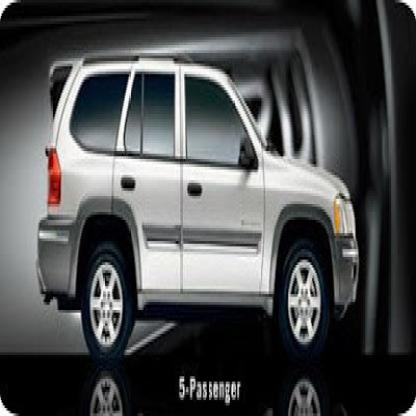Vehicle: (33, 45, 363, 379)
